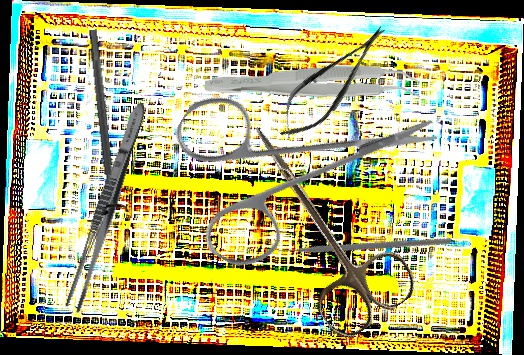Chopper: (267, 153, 453, 329)
Dressing Forceps: (62, 98, 152, 316)
Fixation Ring: (78, 27, 131, 216)
Iris Scissors: (131, 10, 443, 322), (211, 102, 424, 345)
Micro Scissor: (264, 13, 401, 151)
Tissue Forceps: (204, 63, 421, 108)
